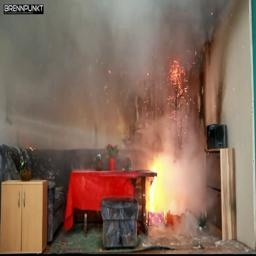fire: (134, 152, 183, 216)
smoke: (75, 8, 196, 144)
